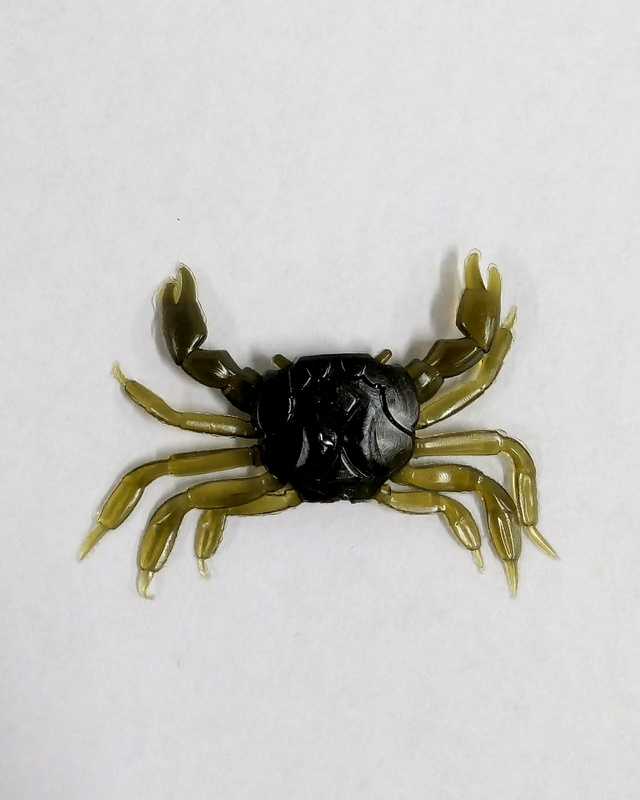crab2: (70, 250, 566, 604)
